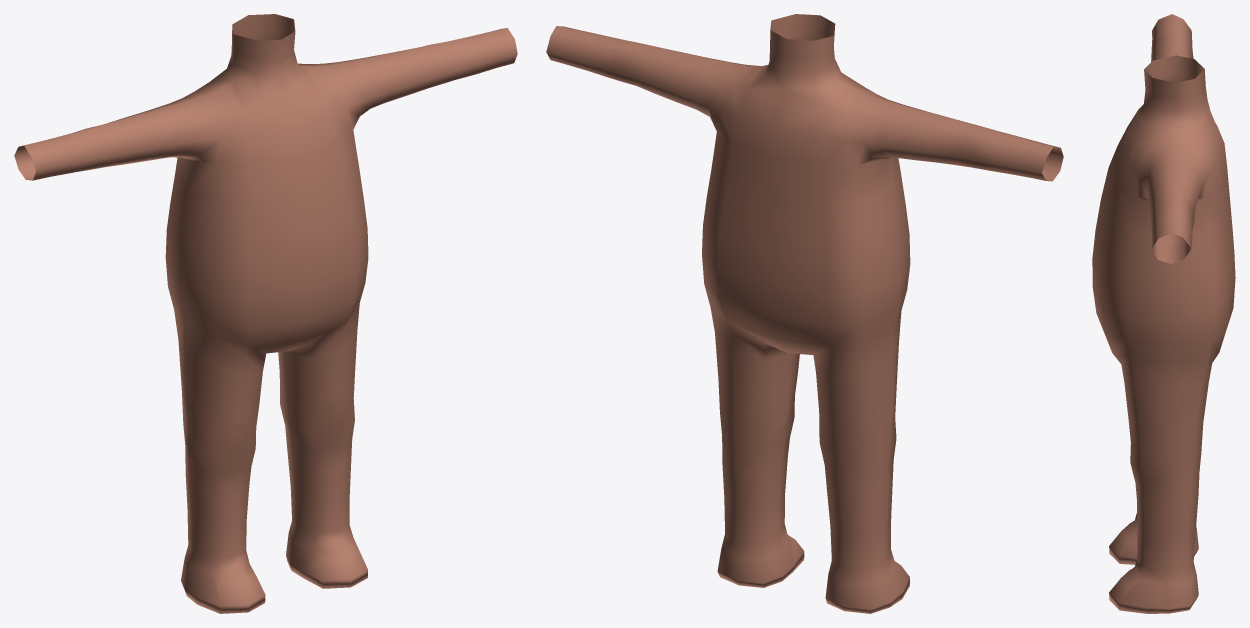
The model's file is Body_Brown_2.fbx.
3 renders of one model, left to right at view 1: azimuth 30°, elevation 25°; view 2: azimuth 150°, elevation 25°; view 3: azimuth 270°, elevation 25°, orthographic. The views are drawn at different scales.
Parts seen in each view (by area): view 1: Body_Brown_2; view 2: Body_Brown_2; view 3: Body_Brown_2.
Part boxes in pixels (x1=…): Body_Brown_2: x1=14, y1=14, x2=517, y2=613; Body_Brown_2: x1=546, y1=14, x2=1063, y2=613; Body_Brown_2: x1=1092, y1=14, x2=1235, y2=613.
Bounding box in the file's own units: 95.86 × 104 × 26.46.
